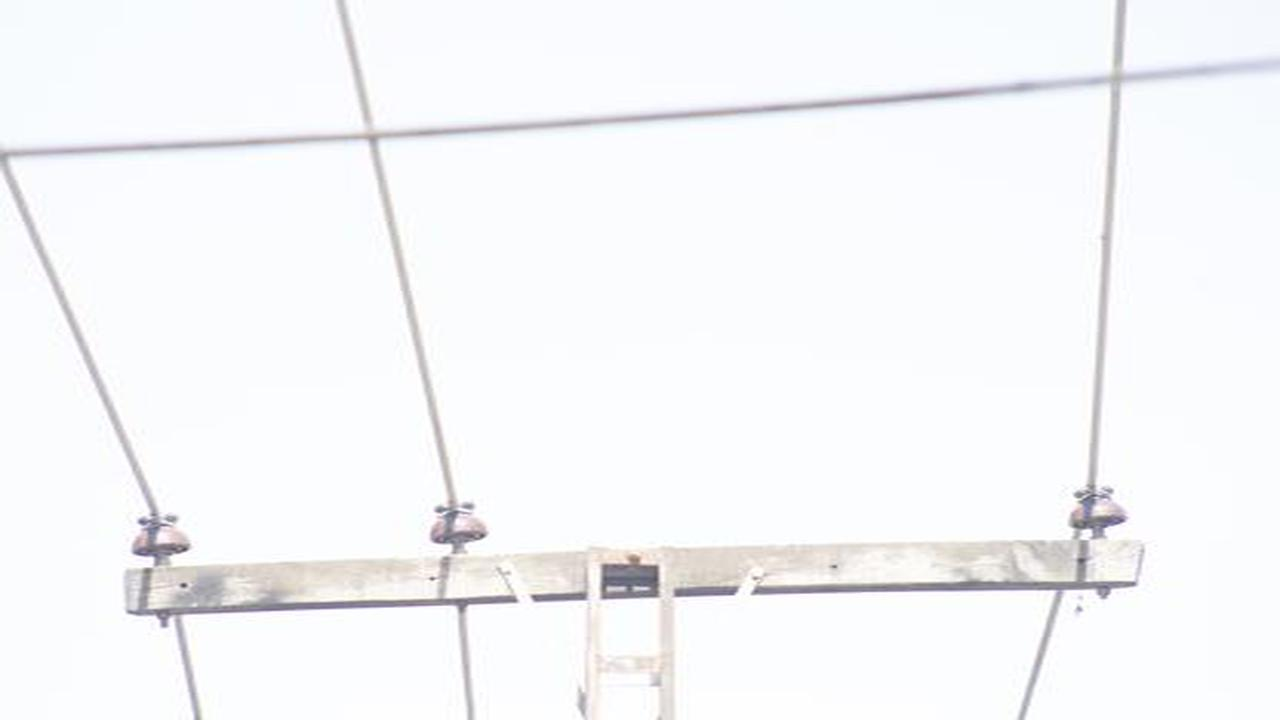insulator_pin: (127, 507, 195, 560), (422, 500, 491, 546), (1068, 483, 1130, 533)
